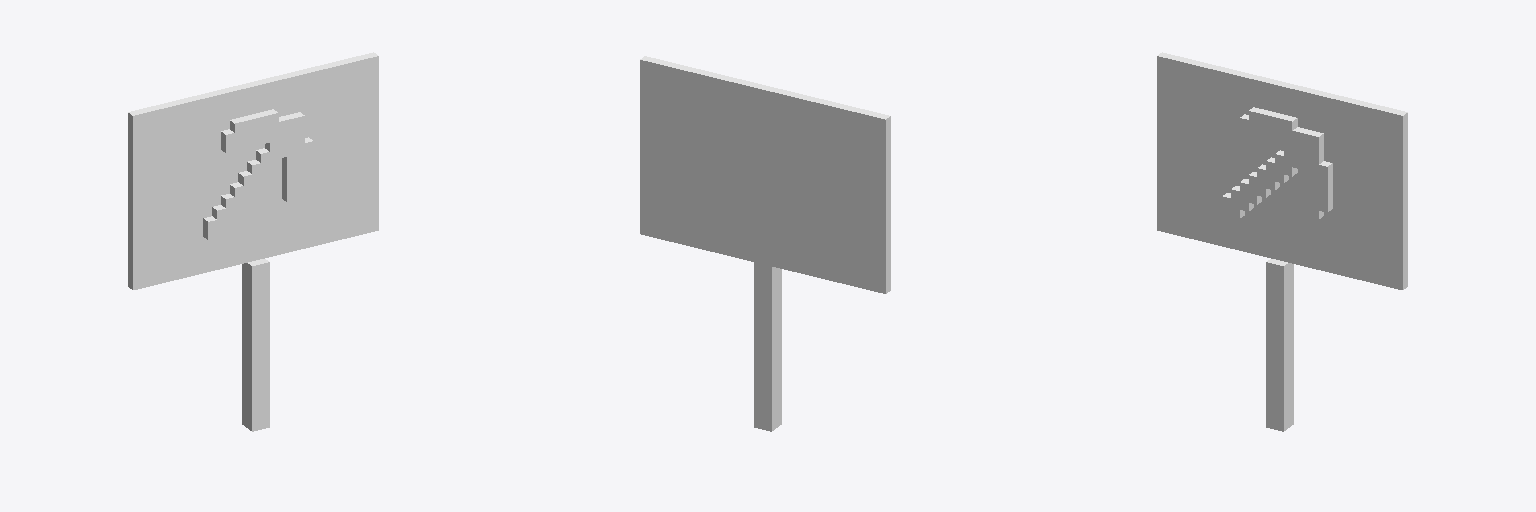
Rendered from signboard.vox.obj.
3 views of the same model, side by side, from view 1: azimuth 30°, elevation 25°; view 2: azimuth 150°, elevation 25°; view 3: azimuth 330°, elevation 25° (orthographic).
Parts seen in each view (by area): view 1: object 1; view 2: object 1; view 3: object 1.
Part boxes in pixels (left/top/right/bottom): object 1: left=128, top=52, right=378, bottom=431; object 1: left=640, top=56, right=890, bottom=431; object 1: left=1157, top=52, right=1407, bottom=431.
Size of the model in its own units: 2.8 by 3.7 by 0.2.